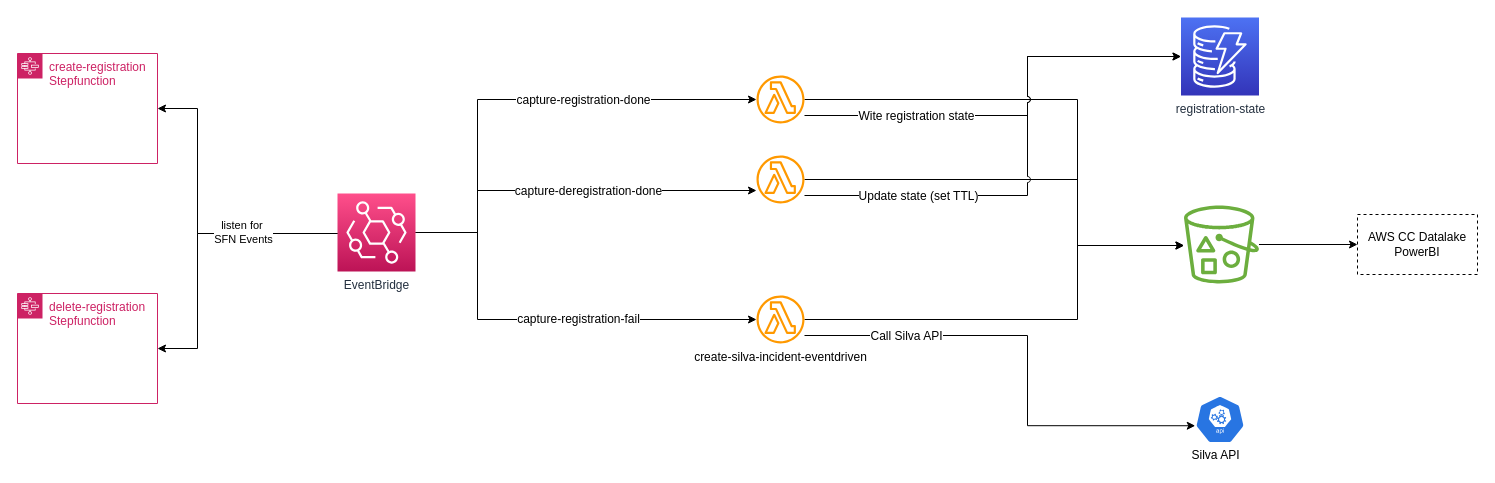
This 1495x483 diagram has some shape labels left out. The centre of each missing label's shape, as x and y in pixels:
mpi-orc-datalake: the point at 1221,244
write-deregistration-report: the point at 780,179
write-registration-report: the point at 780,99
